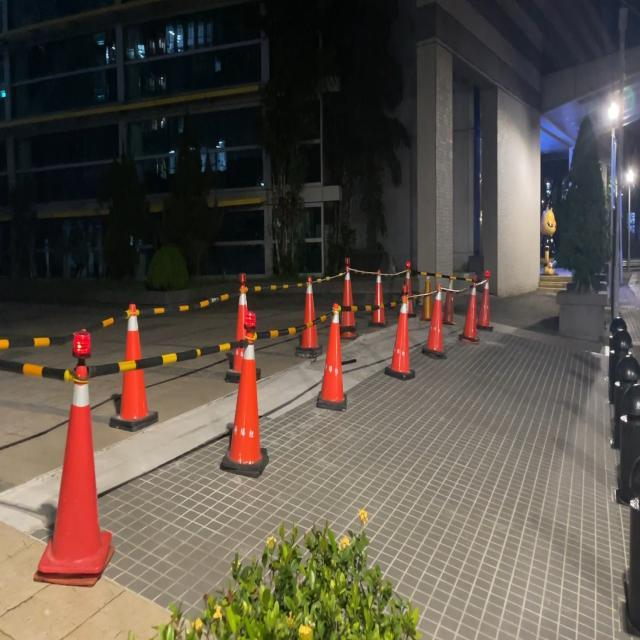traffic cone: (33, 341, 116, 588), (219, 331, 270, 479), (109, 303, 159, 433), (316, 303, 349, 412), (384, 291, 416, 381), (223, 277, 250, 383), (295, 276, 323, 359), (421, 287, 448, 360), (338, 257, 360, 341), (457, 281, 481, 344), (368, 268, 388, 328), (476, 277, 495, 332), (442, 290, 457, 326)
